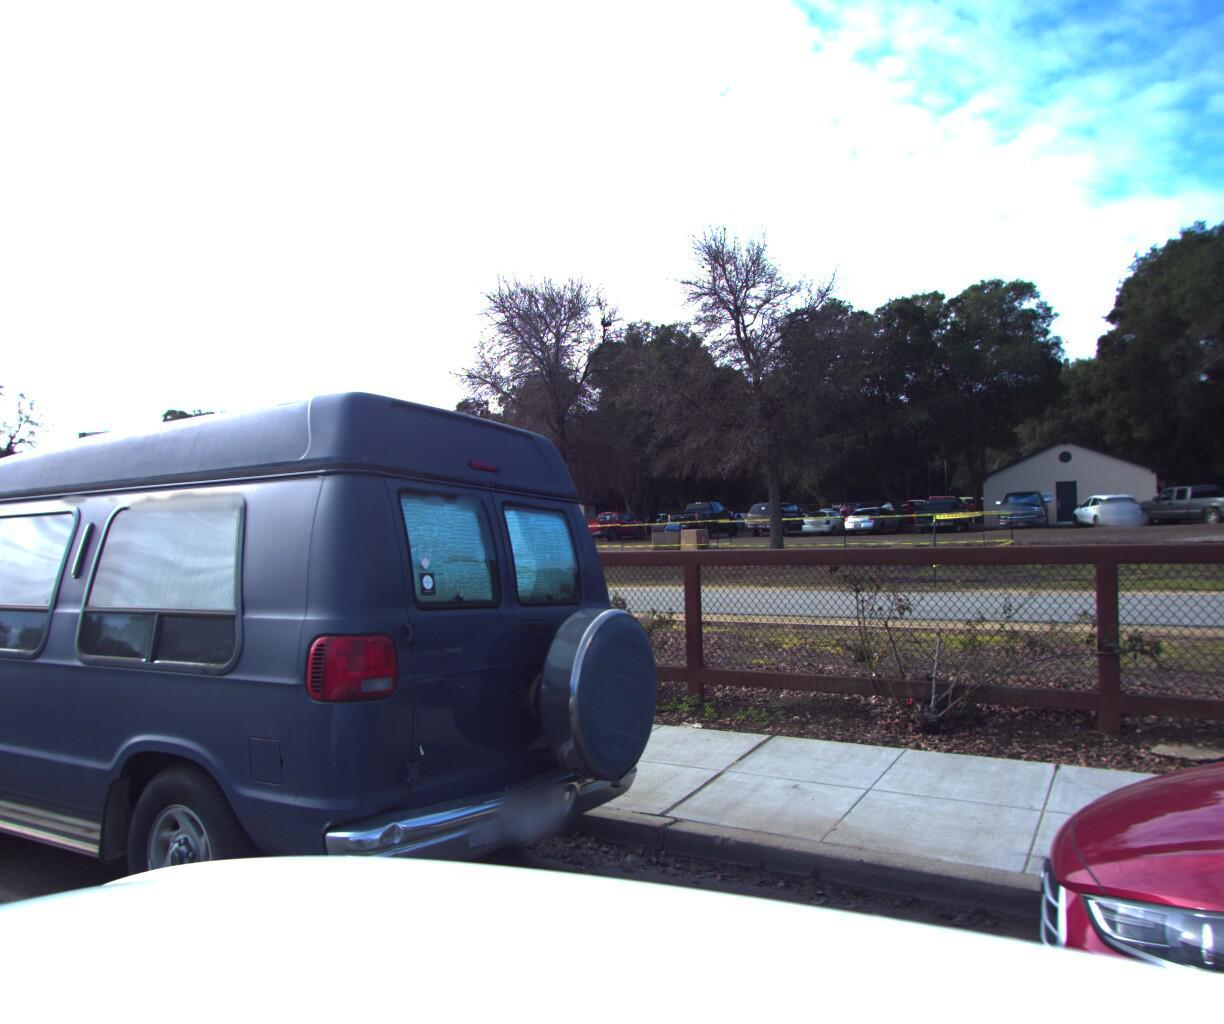car: (0, 339, 709, 1024)
